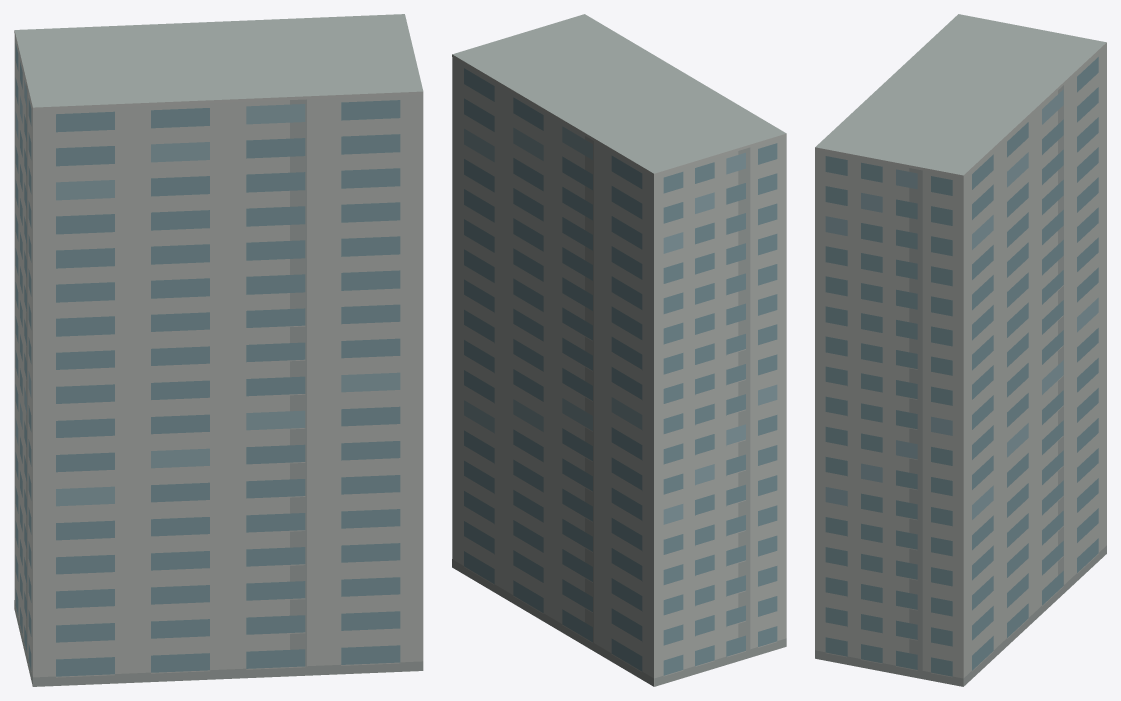
File: residential-36c901dd-2347-4c21-b836-b42061884bef.glb
The picture shows the model from 3 angles, left to right: view 1: azimuth 30°, elevation 25°; view 2: azimuth 150°, elevation 25°; view 3: azimuth 270°, elevation 25°; orthographic projection. The views are drawn at different scales.
Parts seen in each view (by area): view 1: residential-36c901dd-2347-4c21-b836-b42061884bef.tmp; view 2: residential-36c901dd-2347-4c21-b836-b42061884bef.tmp; view 3: residential-36c901dd-2347-4c21-b836-b42061884bef.tmp.
Part boxes in pixels (x1,y1,x2,y2): residential-36c901dd-2347-4c21-b836-b42061884bef.tmp: (14,14,423,686); residential-36c901dd-2347-4c21-b836-b42061884bef.tmp: (452,14,786,686); residential-36c901dd-2347-4c21-b836-b42061884bef.tmp: (815,14,1106,686).
Size of the model in its own units: 30.48 by 45 by 23.28.
